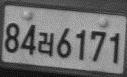1: (73, 29, 89, 61), (107, 32, 123, 64)
4: (20, 23, 36, 55)
6: (56, 27, 71, 58)
7: (90, 29, 106, 61)
8: (4, 22, 19, 53)
러: (37, 31, 54, 57)
